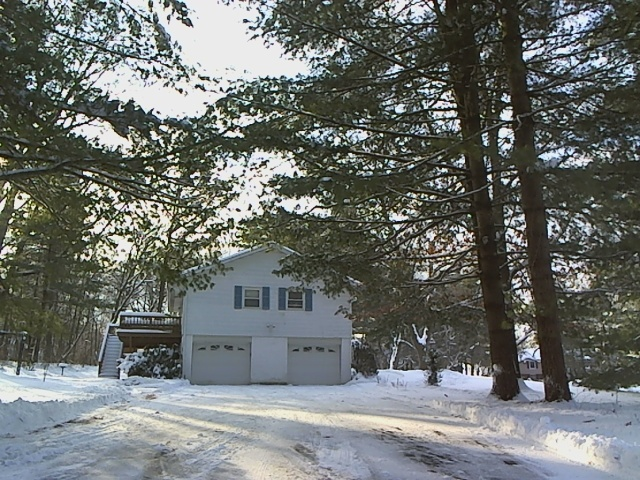Unploughed: (119, 381, 495, 477)
